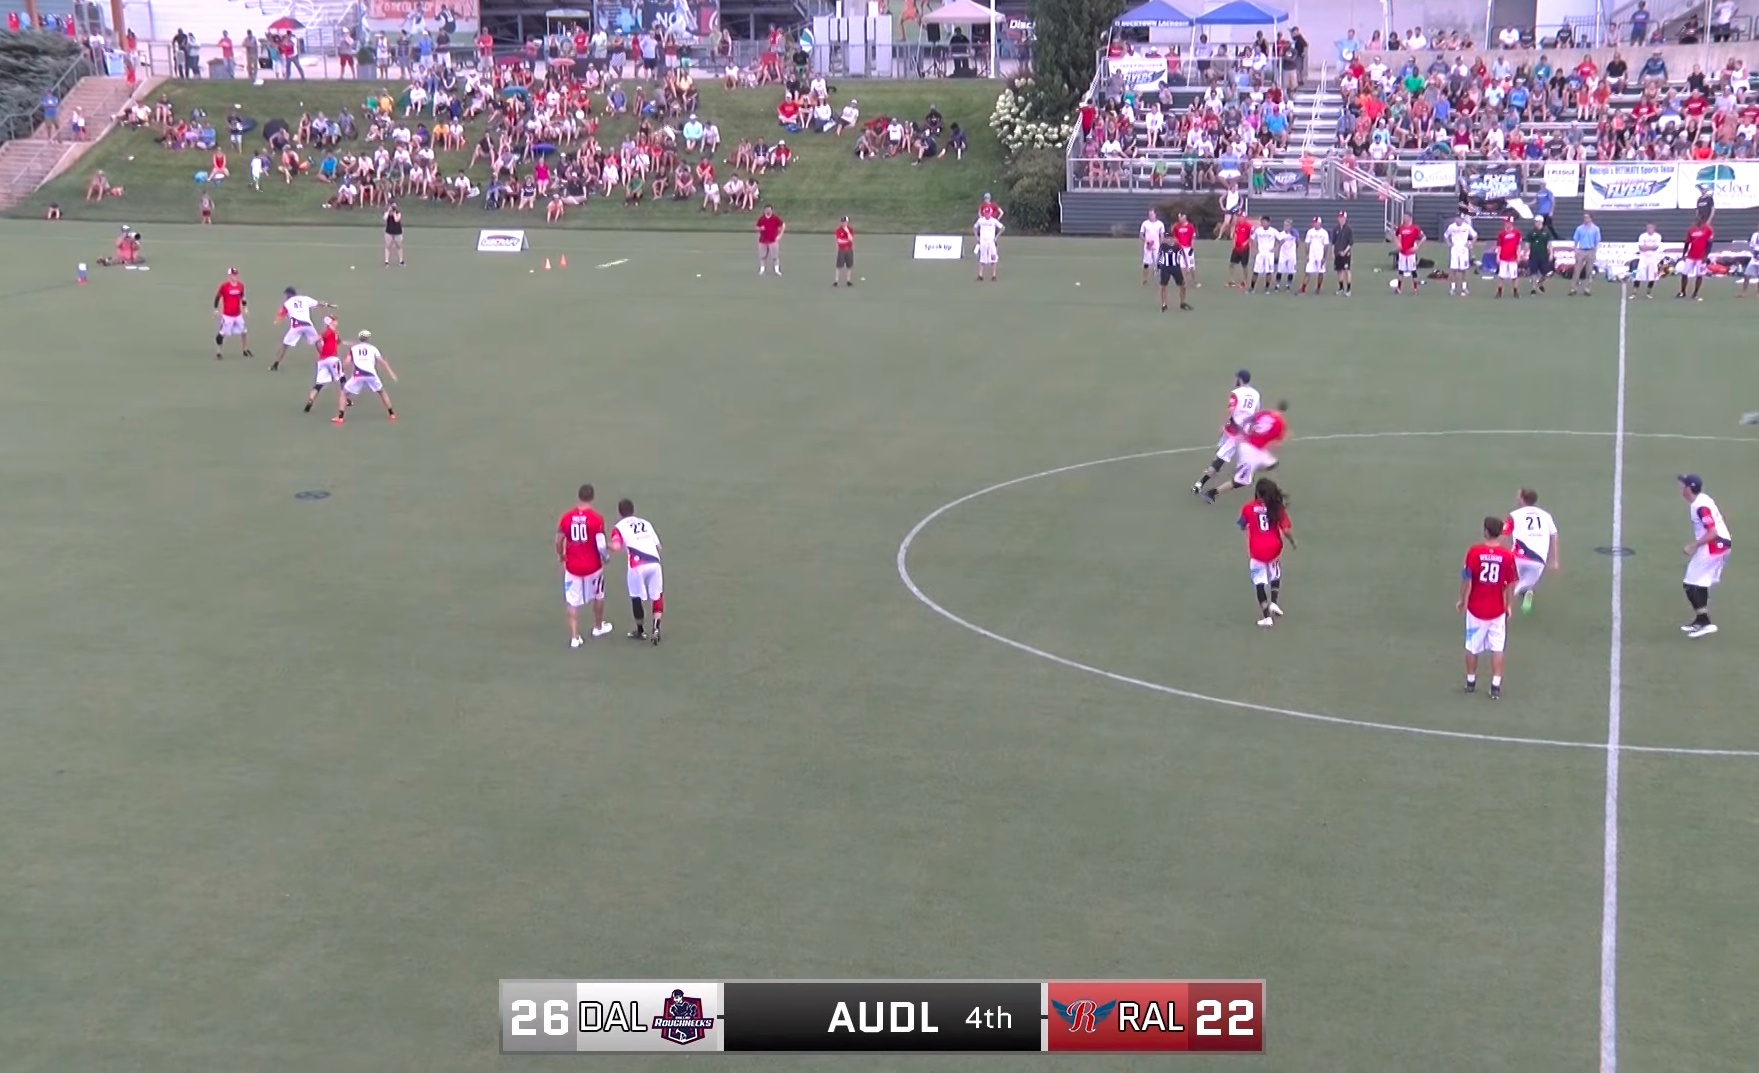frisbee: (601, 258, 629, 269)
